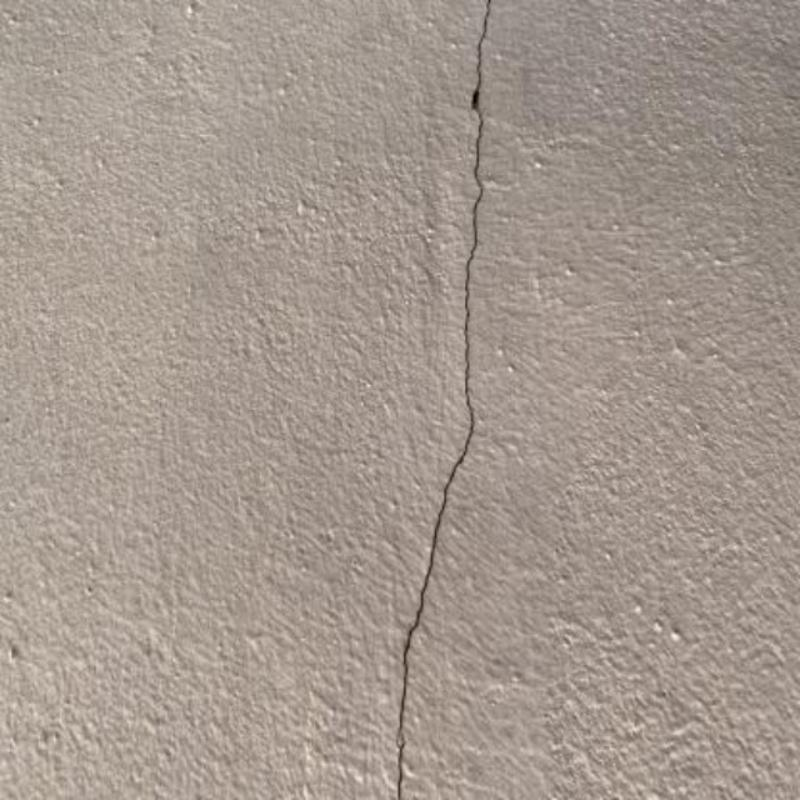pothole: (395, 1, 493, 797)
